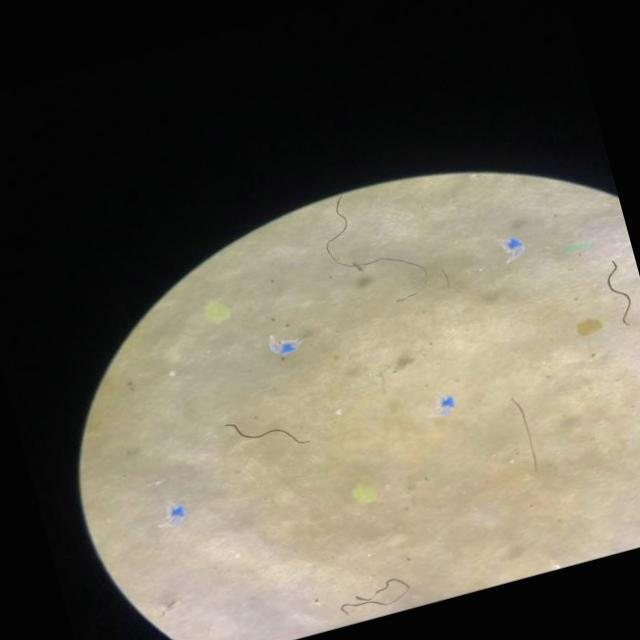fiber: (325, 196, 424, 275), (339, 578, 407, 612), (511, 398, 537, 469), (226, 422, 305, 443), (606, 259, 630, 324)
film: (267, 335, 297, 355), (165, 504, 185, 525), (437, 396, 453, 415), (505, 236, 521, 255)
fragment: (204, 300, 229, 323), (576, 318, 602, 336), (351, 484, 374, 502)
pellet: (169, 370, 175, 376), (234, 552, 240, 557), (335, 409, 339, 414)
